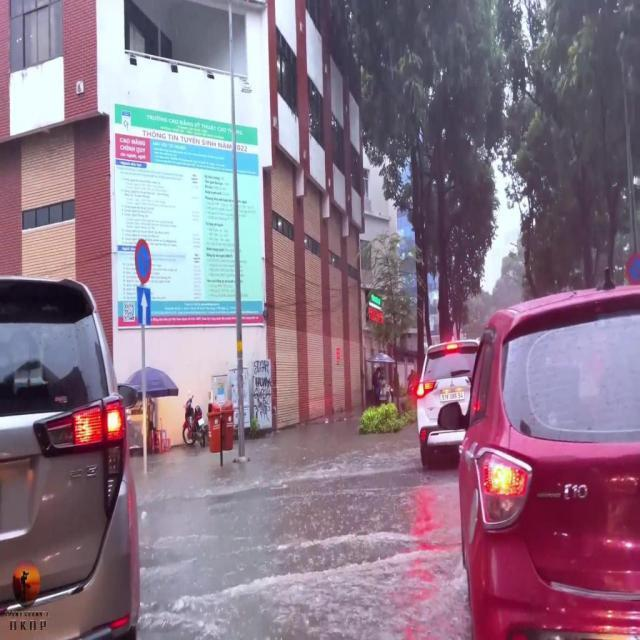131a-cam-do-xe: (134, 240, 154, 284), (624, 252, 640, 284)
407a-duong-mot-chieu: (138, 286, 150, 326)
